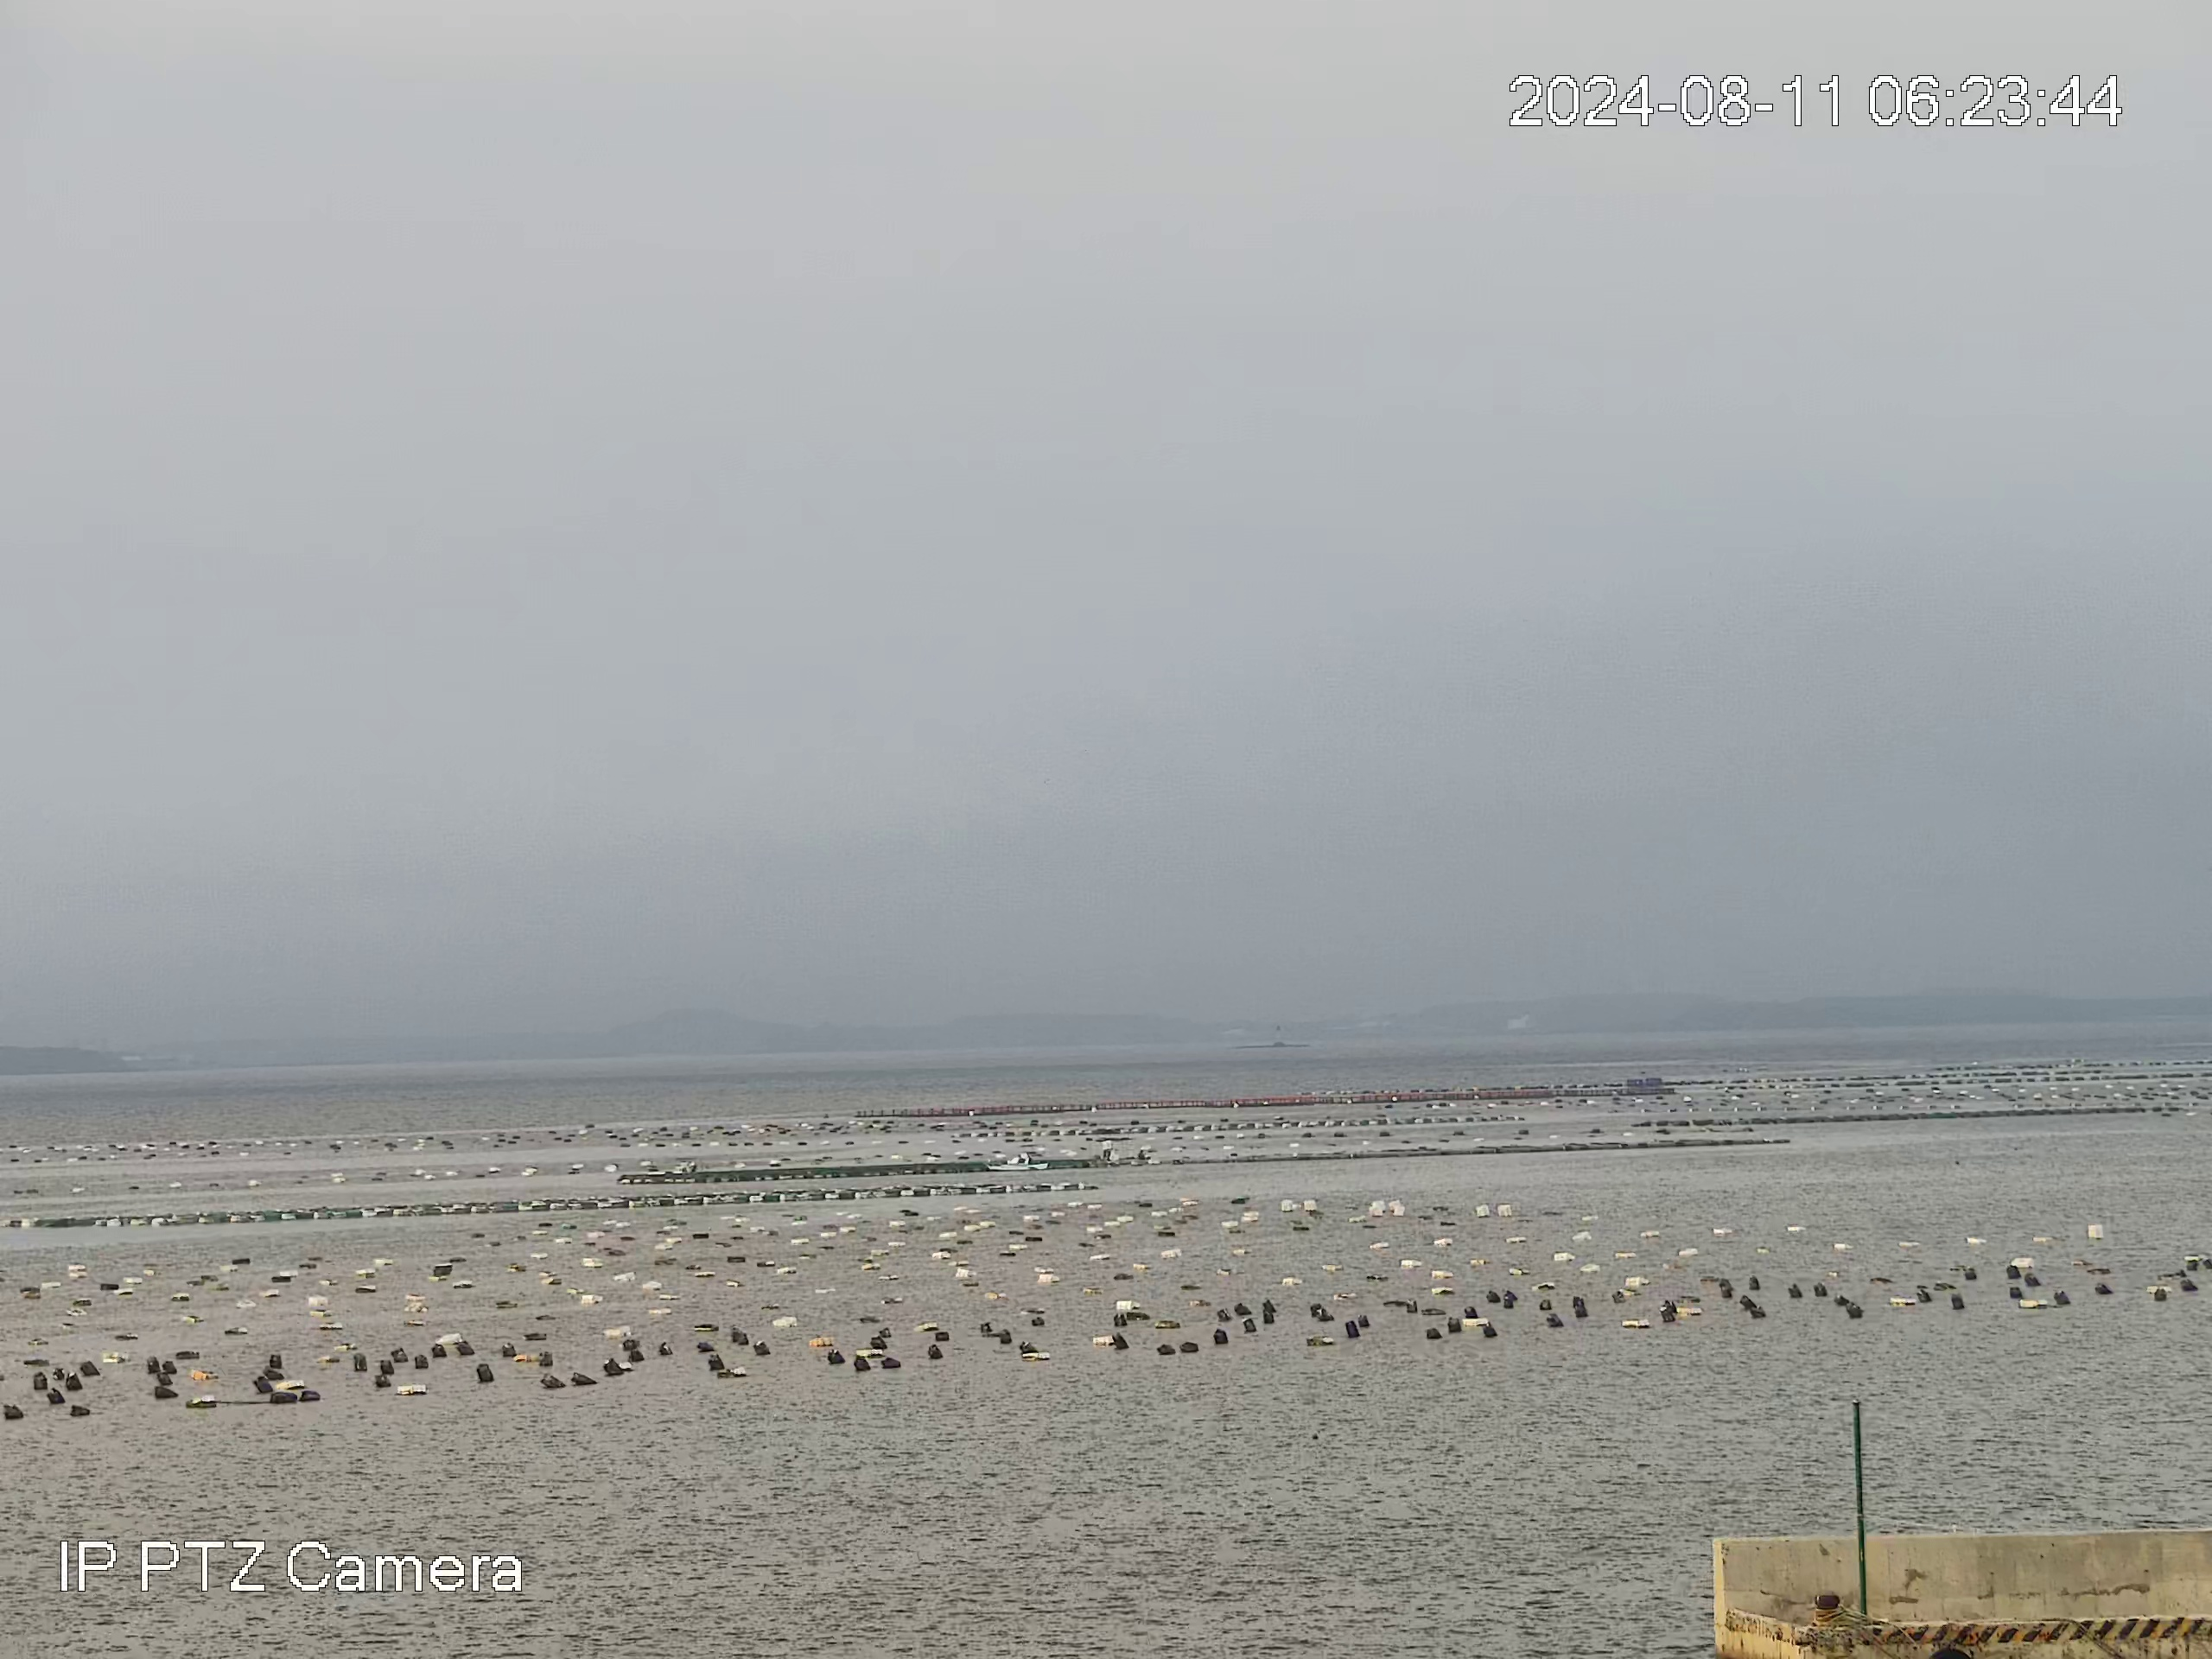boat: (982, 1152, 1050, 1171)
